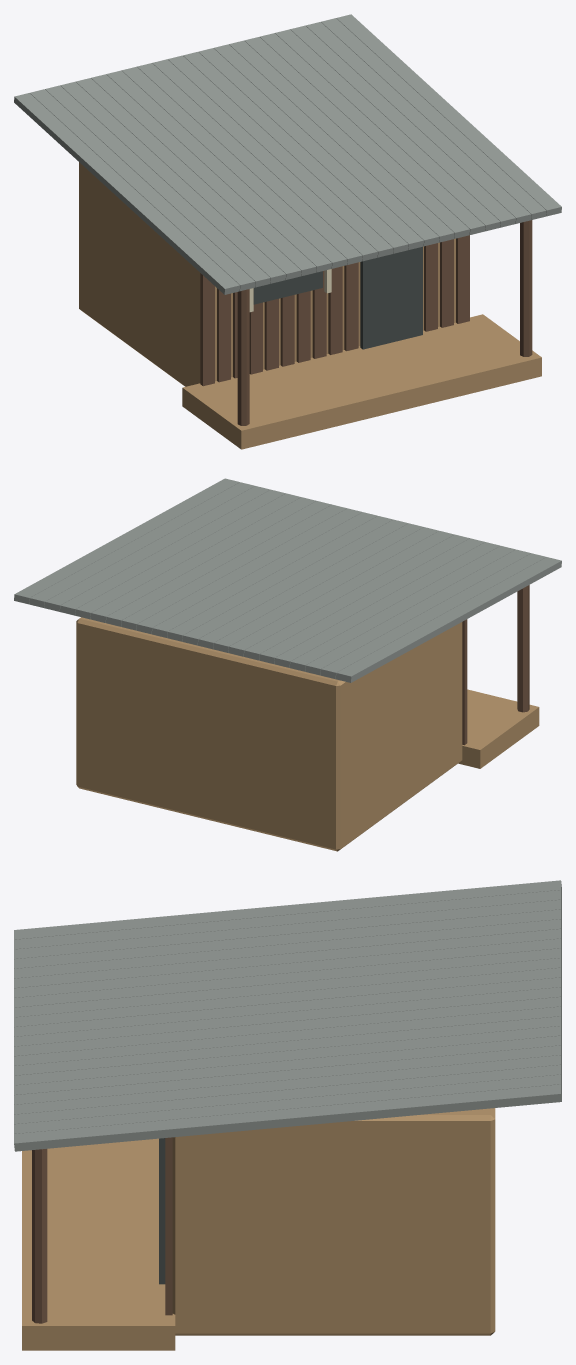
File: marshal-hut.glb
3 renders of one model, top to bottom at view 1: azimuth 30°, elevation 25°; view 2: azimuth 150°, elevation 25°; view 3: azimuth 270°, elevation 25°, orthographic. The views are drawn at different scales.
Parts seen in each view (by area): view 1: Porch, Raised hut, Door, Corrugated roof, Corrugated roof.017, Corrugated roof.003, Corrugated roof.006, Corrugated roof.009, Corrugated roof.019, Corrugated roof.021, Corrugated roof.002, Corrugated roof.005 (+28 smaller); view 2: Raised hut, Corrugated roof, Porch, Corrugated roof.008, Corrugated roof.006, Corrugated roof.010, Corrugated roof.013, Corrugated roof.019, Corrugated roof.002, Corrugated roof.005, Corrugated roof.015, Corrugated roof.016 (+14 smaller); view 3: Raised hut, Porch, Corrugated roof.021, Corrugated roof.002, Corrugated roof.009, Corrugated roof.015, Corrugated roof.016, Corrugated roof.008, Corrugated roof.001, Corrugated roof, Corrugated roof.003, Corrugated roof.004 (+15 smaller).
Boxes of the visible parts, left/top/right/bottom form: Porch: left=182, top=314, right=541, bottom=449; Raised hut: left=79, top=162, right=455, bottom=386; Door: left=360, top=246, right=422, bottom=349; Corrugated roof: left=14, top=93, right=239, bottom=294; Corrugated roof.017: left=275, top=29, right=500, bottom=231; Corrugated roof.003: left=60, top=81, right=285, bottom=283; Corrugated roof.006: left=106, top=70, right=331, bottom=272; Corrugated roof.009: left=152, top=59, right=377, bottom=261; Corrugated roof.019: left=305, top=22, right=531, bottom=223; Corrugated roof.021: left=336, top=14, right=561, bottom=216; Corrugated roof.002: left=45, top=85, right=270, bottom=287; Corrugated roof.005: left=91, top=74, right=316, bottom=276; Raised hut: left=76, top=617, right=462, bottom=851; Corrugated roof: left=336, top=557, right=561, bottom=682; Porch: left=458, top=689, right=539, bottom=768; Corrugated roof.008: left=213, top=527, right=438, bottom=652; Corrugated roof.006: left=244, top=534, right=469, bottom=660; Corrugated roof.010: left=182, top=519, right=408, bottom=645; Corrugated roof.013: left=136, top=508, right=362, bottom=634; Corrugated roof.019: left=44, top=486, right=270, bottom=611; Corrugated roof.002: left=305, top=549, right=530, bottom=675; Corrugated roof.005: left=259, top=538, right=484, bottom=664; Corrugated roof.015: left=106, top=501, right=331, bottom=626; Corrugated roof.016: left=90, top=497, right=316, bottom=622; Raised hut: left=172, top=1108, right=495, bottom=1335; Porch: left=22, top=1138, right=175, bottom=1350; Corrugated roof.021: left=14, top=1084, right=561, bottom=1151; Corrugated roof.002: left=14, top=899, right=561, bottom=959; Corrugated roof.009: left=14, top=967, right=561, bottom=1027; Corrugated roof.015: left=14, top=1026, right=561, bottom=1085; Corrugated roof.016: left=14, top=1035, right=561, bottom=1095; Corrugated roof.008: left=14, top=958, right=561, bottom=1017; Corrugated roof.001: left=14, top=890, right=561, bottom=949; Corrugated roof: left=14, top=880, right=561, bottom=939; Corrugated roof.003: left=14, top=909, right=561, bottom=968; Corrugated roof.004: left=14, top=919, right=561, bottom=978.
Size of the model in its own units: 5.61 by 3.27 by 6.08.
